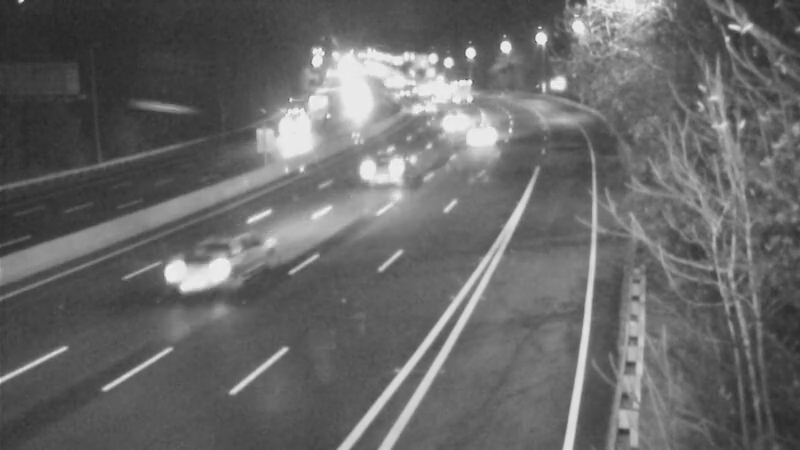vehicle: (344, 133, 424, 213), (161, 234, 241, 314), (433, 63, 483, 113), (396, 81, 446, 131), (434, 94, 484, 144), (459, 111, 509, 161), (259, 111, 309, 161)
